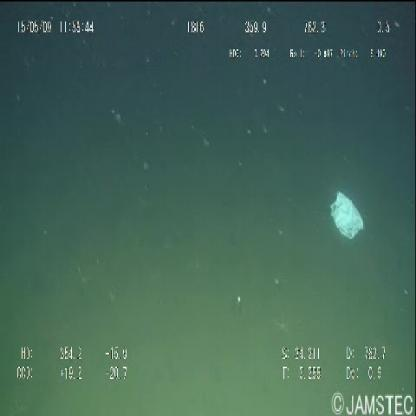Rác: (326, 180, 368, 250)
